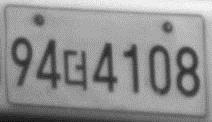0: (147, 45, 172, 94)
1: (119, 43, 147, 94)
4: (91, 41, 119, 93), (35, 39, 62, 89)
8: (174, 45, 202, 97)
9: (9, 35, 34, 87)
더: (62, 48, 89, 91)
